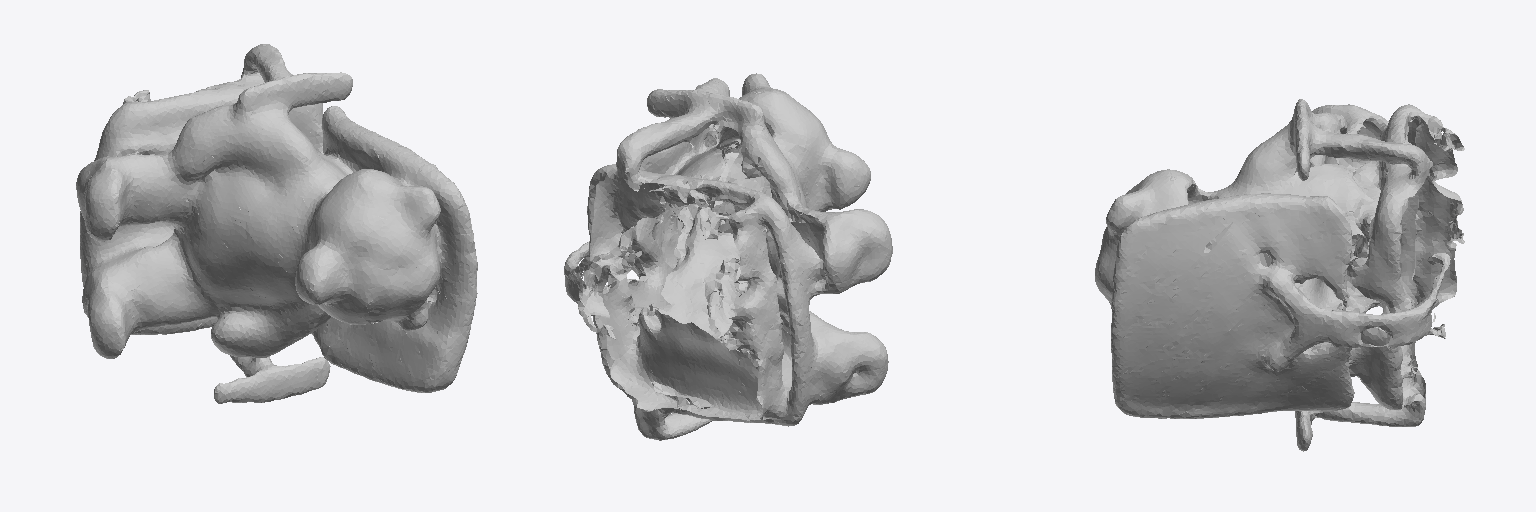
File: label.obj
The picture shows the model from 3 angles: view 1: azimuth 30°, elevation 25°; view 2: azimuth 150°, elevation 25°; view 3: azimuth 270°, elevation 25°; orthographic projection.
Size of the model in its own units: 0.6178 by 0.6552 by 0.6854.